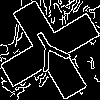Y: (25, 25, 77, 81)
